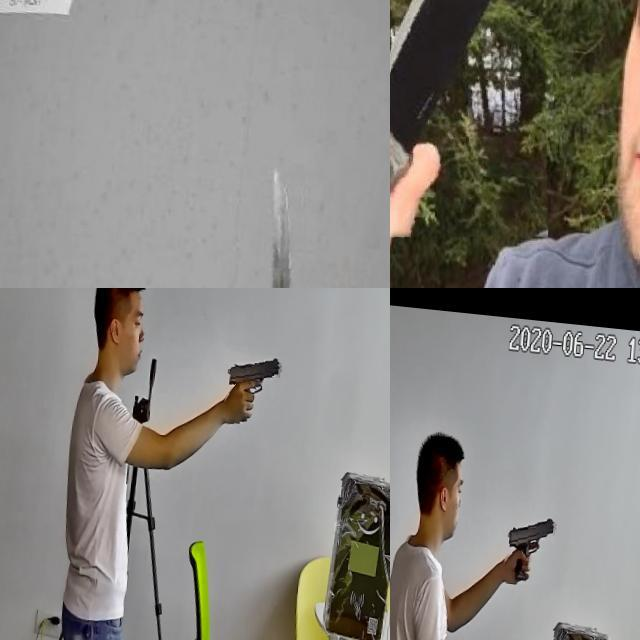-: (390, 0, 569, 246), (252, 154, 337, 288)
gun-knife-thesis - v11 Yolov5 augmented: (225, 344, 290, 418), (505, 501, 566, 577)
